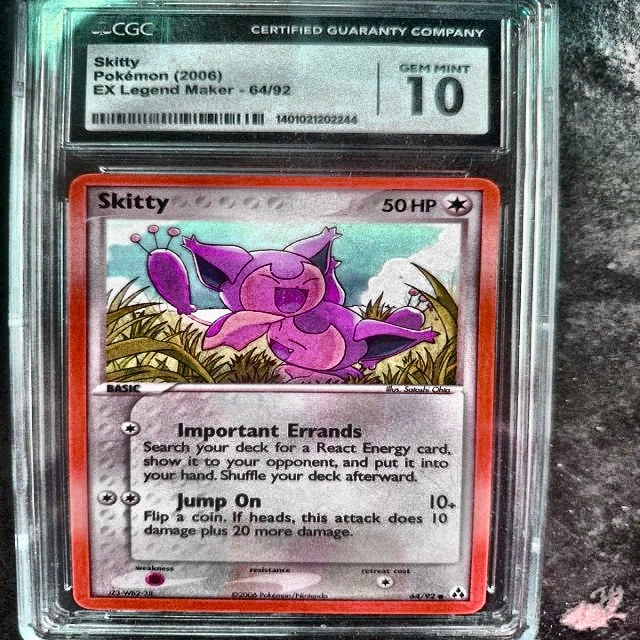card: (64, 171, 502, 618)
